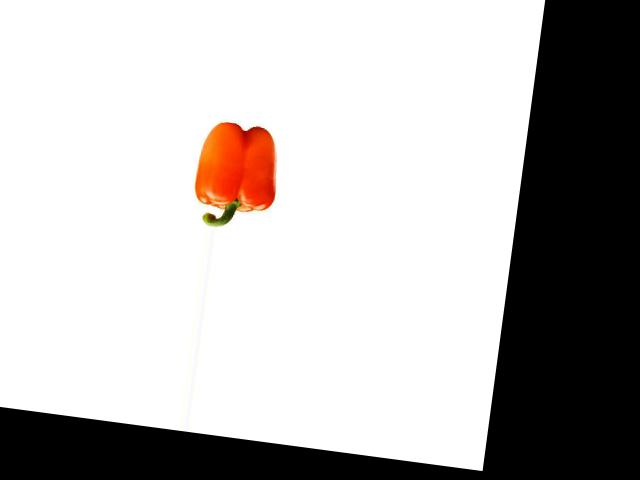bell_pepper: (181, 117, 291, 234)
